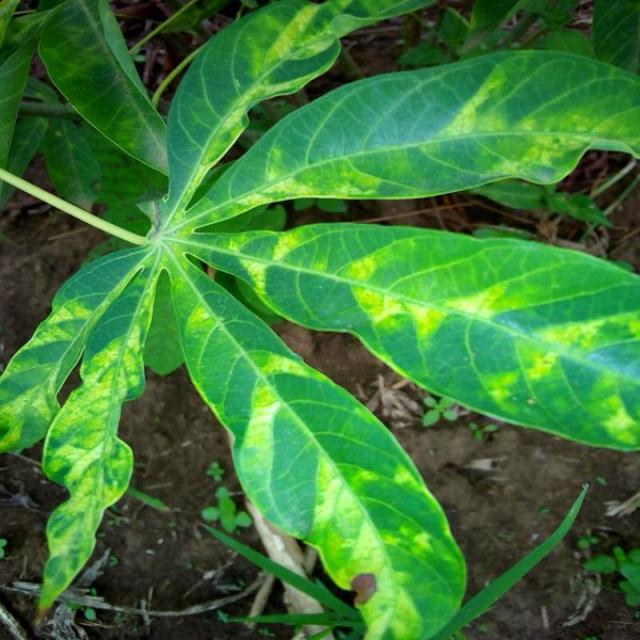cassava leaf: (2, 0, 639, 638), (170, 250, 468, 639), (196, 219, 640, 453), (178, 46, 640, 226)
